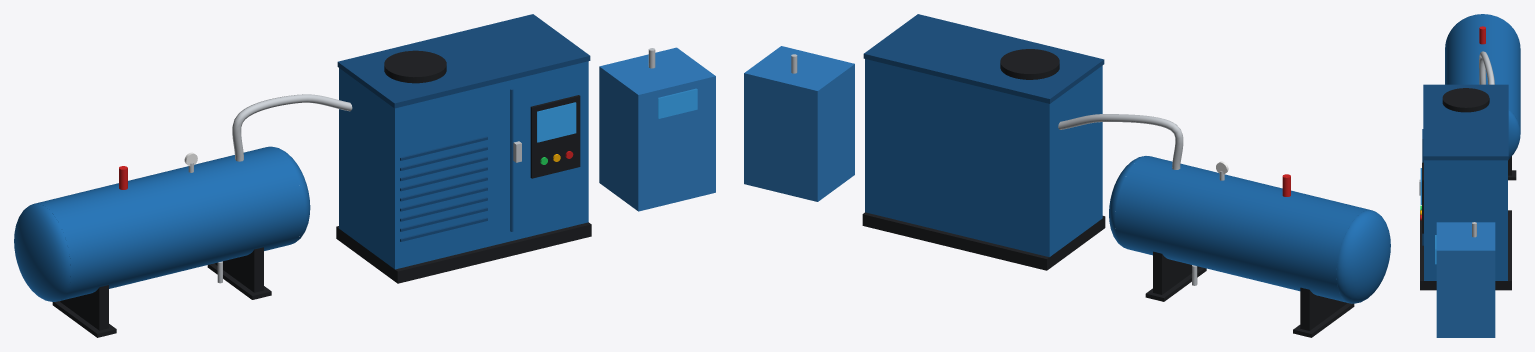
File: kompresor.glb
The picture shows the model from 3 angles, left to right: view 1: azimuth 30°, elevation 25°; view 2: azimuth 150°, elevation 25°; view 3: azimuth 270°, elevation 25°; orthographic projection. The views are drawn at different scales.
Visible parts, largest first — view 1: Asset; view 2: Asset; view 3: Asset.
Part boxes in pixels (left/top/right/bottom): Asset: left=14, top=14, right=715, bottom=337; Asset: left=744, top=14, right=1390, bottom=337; Asset: left=1419, top=14, right=1520, bottom=337.
Size of the model in its own units: 6.8 by 1.83 by 1.2.
